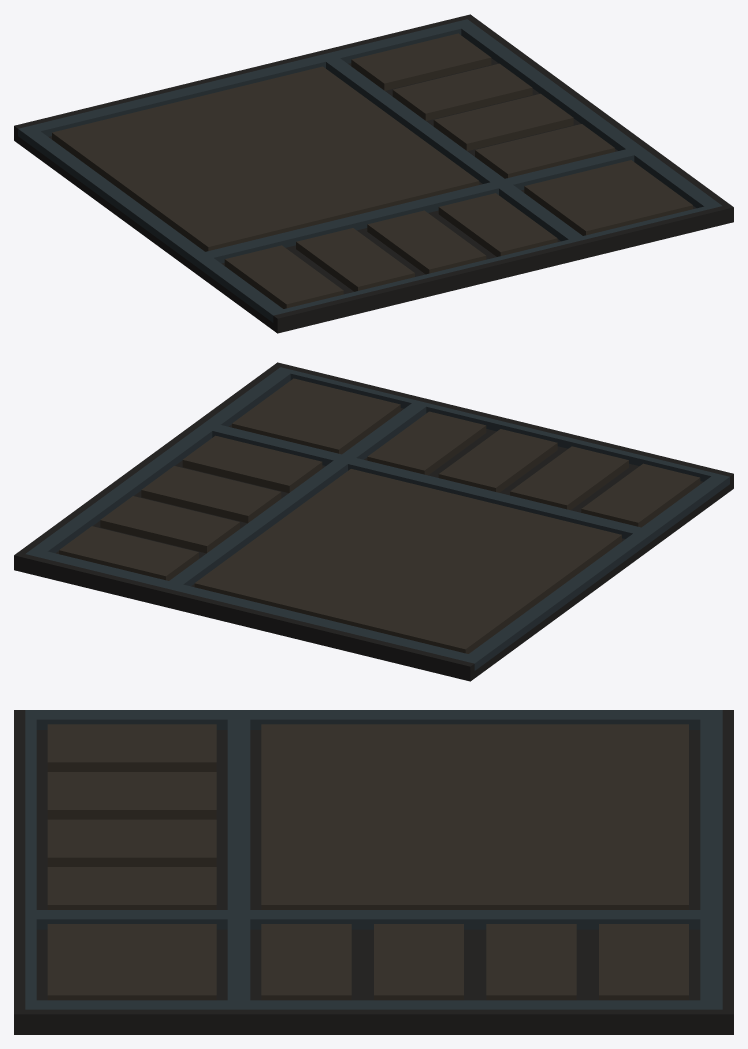
Rendered from bend.obj.
The picture shows the model from 3 angles, top to bottom: view 1: azimuth 30°, elevation 25°; view 2: azimuth 150°, elevation 25°; view 3: azimuth 270°, elevation 25°; orthographic projection. The views are drawn at different scales.
Size of the model in its own units: 6.4 by 0.2 by 6.4.
Materials: 1 (1 with a texture image).
